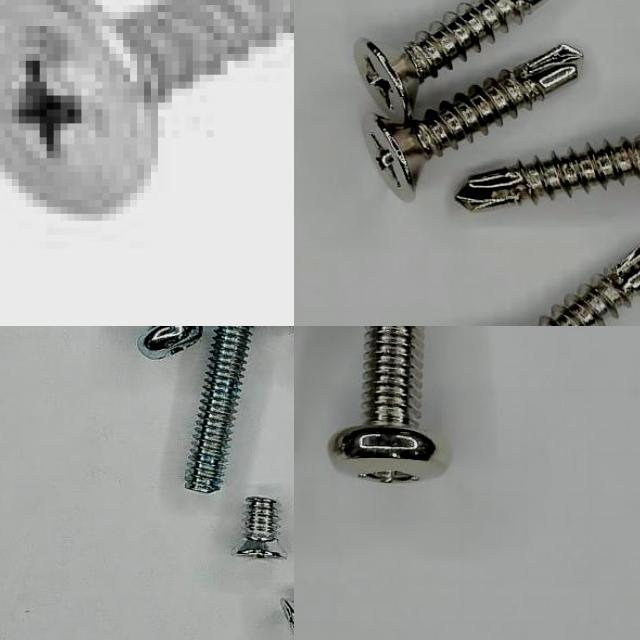Screw: (0, 0, 294, 214), (367, 44, 583, 201), (356, 0, 542, 121), (329, 326, 443, 482), (456, 138, 640, 210), (185, 326, 254, 494), (540, 248, 640, 326), (237, 498, 287, 559)
